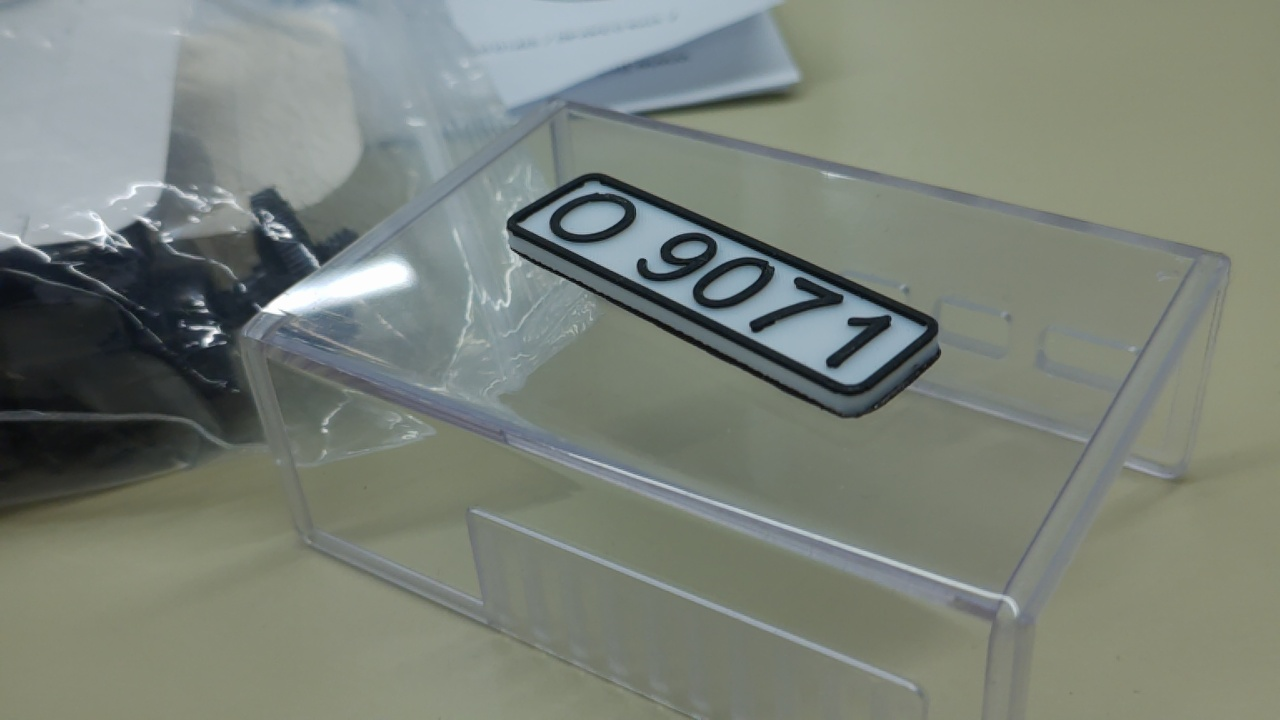license_plate: (488, 163, 966, 422)
